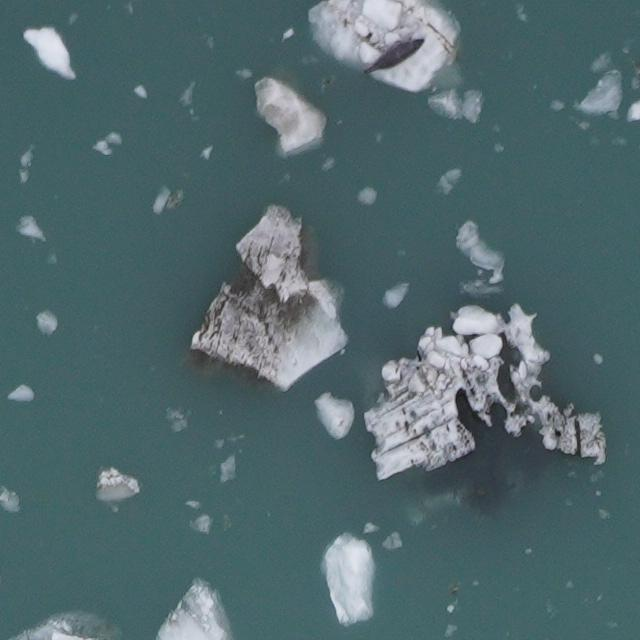seal: (360, 34, 432, 78)
